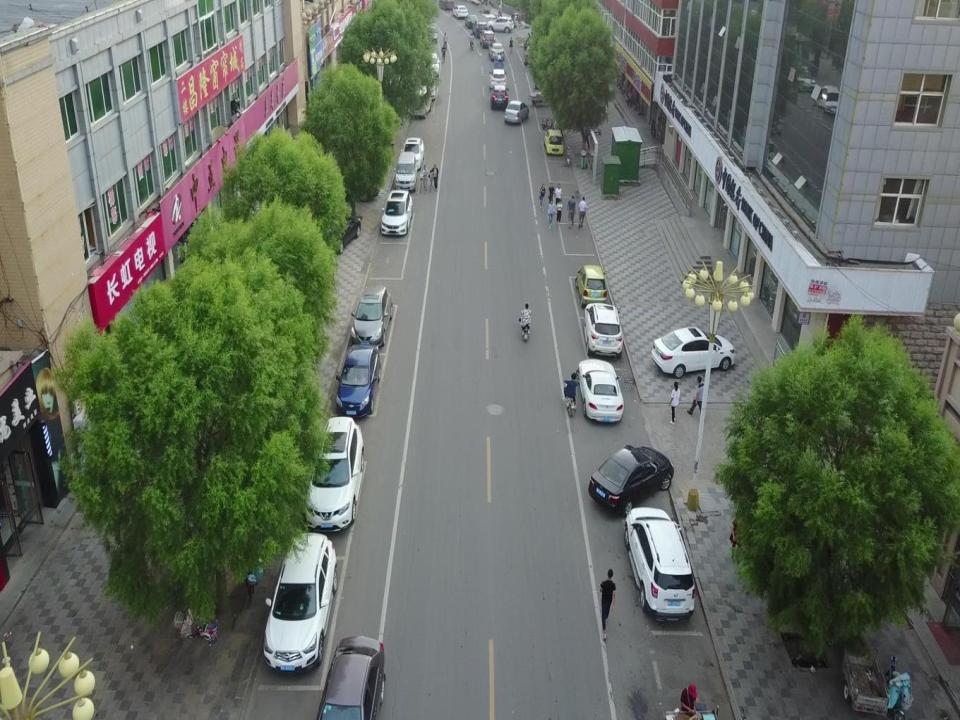car: (262, 532, 339, 680), (624, 506, 695, 623), (304, 415, 365, 531), (589, 444, 675, 514), (317, 634, 384, 720), (652, 326, 736, 378), (334, 342, 380, 419), (577, 357, 624, 423), (350, 284, 393, 348), (584, 302, 624, 357), (316, 215, 361, 256), (380, 189, 412, 236), (576, 264, 608, 306), (401, 138, 425, 170), (504, 100, 529, 124), (418, 70, 436, 100), (544, 129, 564, 155), (490, 84, 509, 108), (422, 52, 441, 75), (487, 17, 514, 33), (523, 45, 541, 67), (489, 68, 508, 88), (480, 28, 496, 49), (488, 42, 505, 60), (471, 20, 488, 38), (422, 26, 438, 44), (452, 5, 468, 19), (464, 14, 478, 29), (438, 0, 454, 9)
van: (394, 152, 416, 192), (409, 84, 432, 118)
